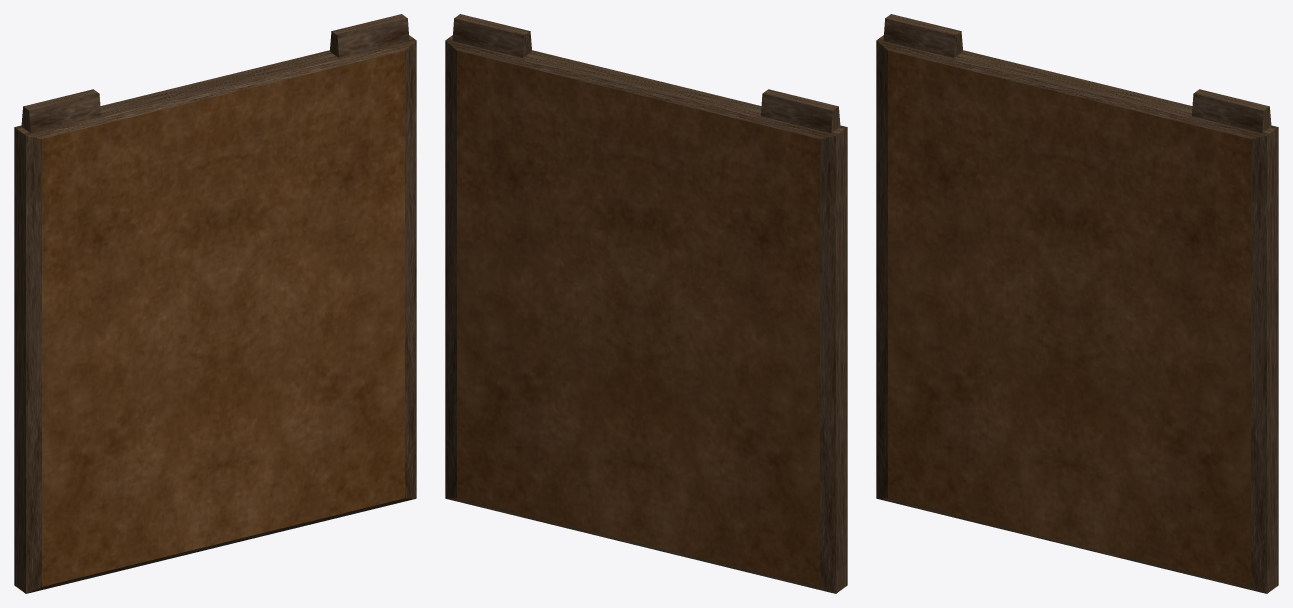
The model's file is Menu Sign.fbx.
The picture shows the model from 3 angles, left to right: view 1: azimuth 30°, elevation 25°; view 2: azimuth 150°, elevation 25°; view 3: azimuth 330°, elevation 25°; orthographic projection.
Visible parts, largest first — view 1: Menu Sign; view 2: Menu Sign; view 3: Menu Sign.
Part boxes in pixels (x1,y1,x2,y2): Menu Sign: (14,14,416,593); Menu Sign: (445,14,847,593); Menu Sign: (876,14,1278,593).
Size of the model in its own units: 1.86 by 2.18 by 0.131.
